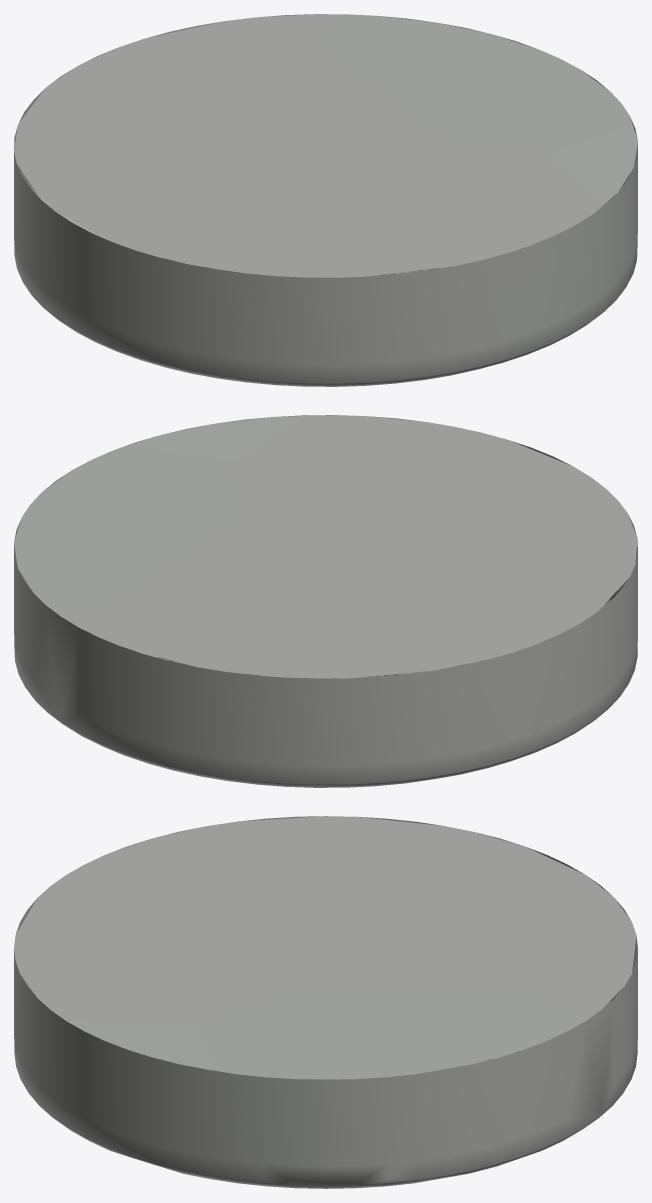
File: ceiling-speaker.gltf
The picture shows the model from 3 angles, top to bottom: view 1: azimuth 30°, elevation 25°; view 2: azimuth 150°, elevation 25°; view 3: azimuth 270°, elevation 25°; orthographic projection.
Visible parts, largest first — view 1: Cylinder.001_Material.016_0; view 2: Cylinder.001_Material.016_0; view 3: Cylinder.001_Material.016_0.
Boxes of the visible parts, bbox=[...] form: Cylinder.001_Material.016_0: bbox=[14, 14, 637, 386]; Cylinder.001_Material.016_0: bbox=[14, 415, 637, 787]; Cylinder.001_Material.016_0: bbox=[14, 816, 637, 1188].
Bounding box in the file's own units: 0.3599 × 0.0829 × 0.3599.
1 material, 1 textured.
